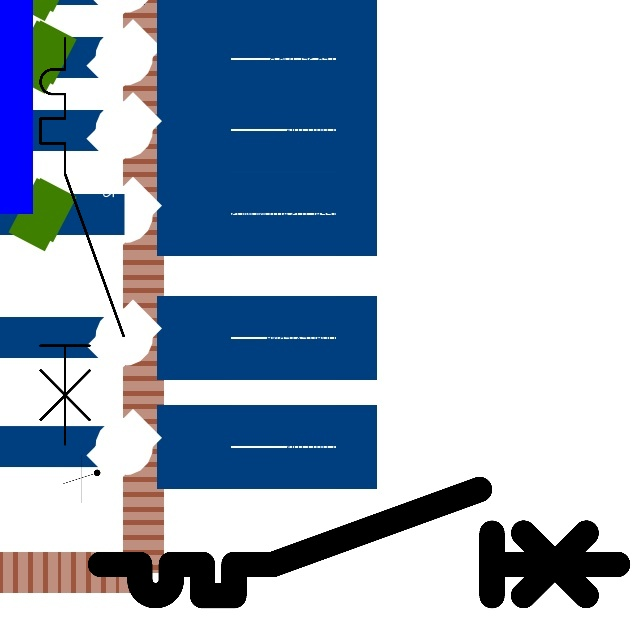interruptor_termomagnetico: (87, 476, 631, 609), (30, 28, 134, 455)
